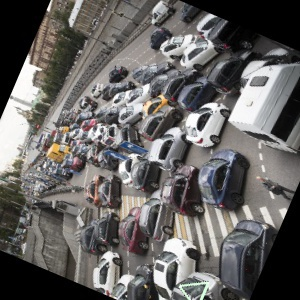triangle: (177, 280, 211, 300)
